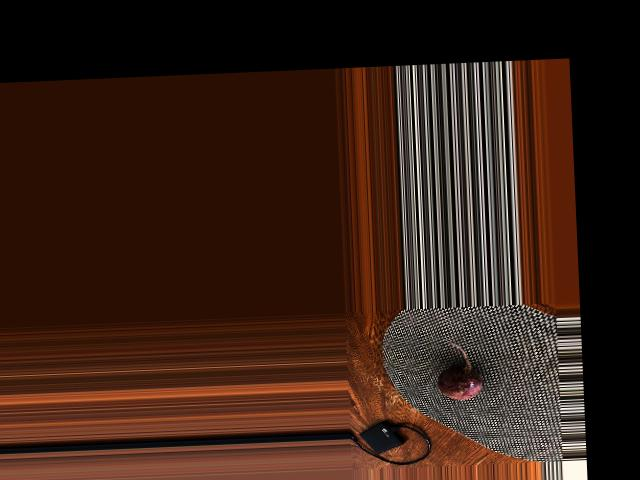beet: (435, 340, 482, 400)
